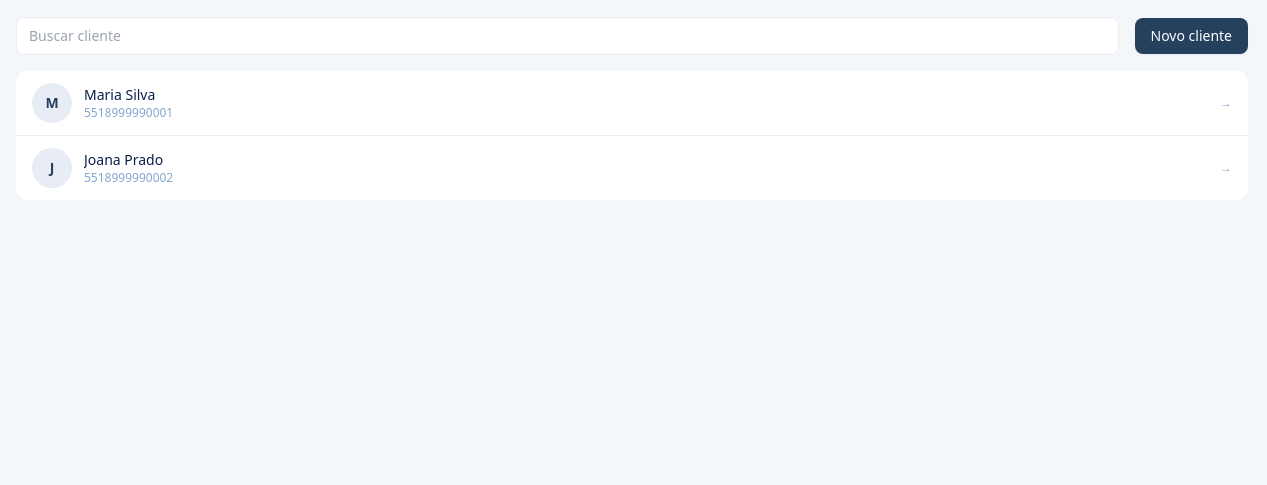
Test case: ClientesPage — criação › cria cliente com os 4 campos e mostra na lista
This screenshot has width=1267, height=485.
Click the button "Novo cliente".
click(1191, 36)  # box [1134,18,1248,54]
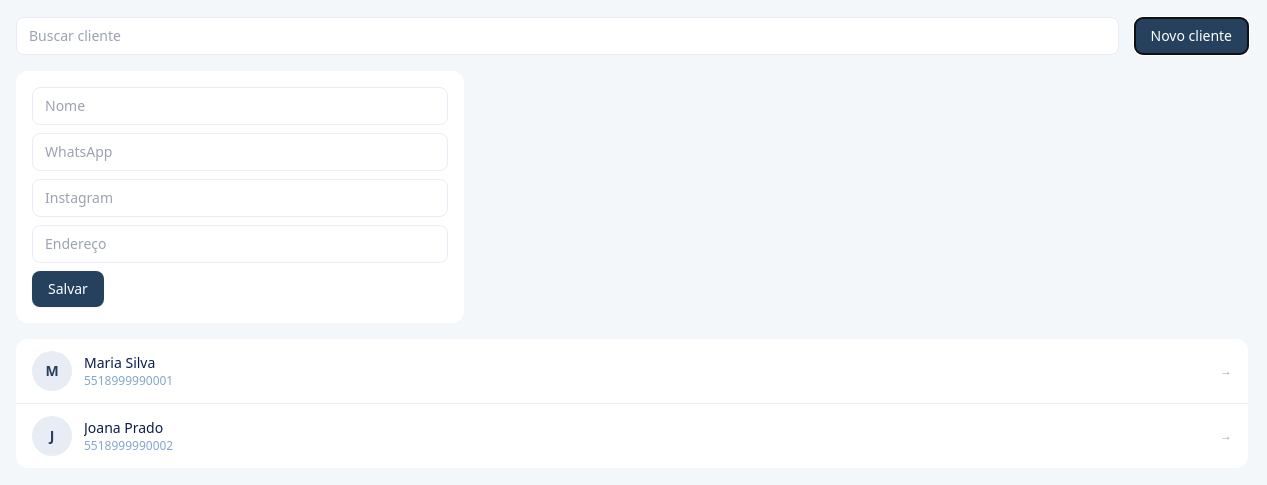
Type "Cintia Nascimento" into the field with placeholder "Nome".
click(240, 106); type("Cintia Nascimento")  # box [32,87,448,125]
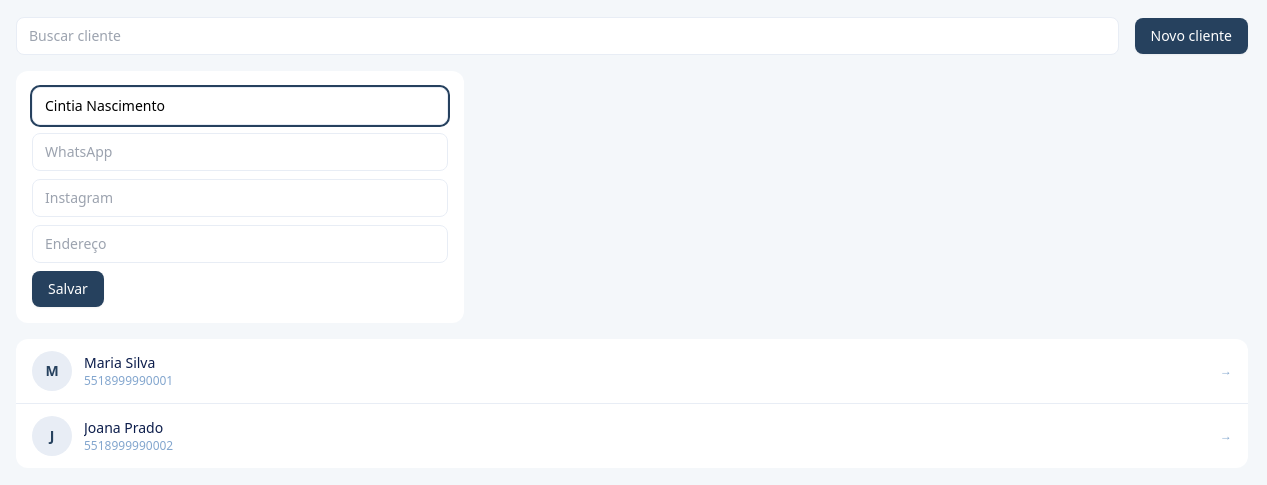
Type "5518988887777" into the field with placeholder "WhatsApp".
click(240, 152); type("5518988887777")  # box [32,133,448,171]
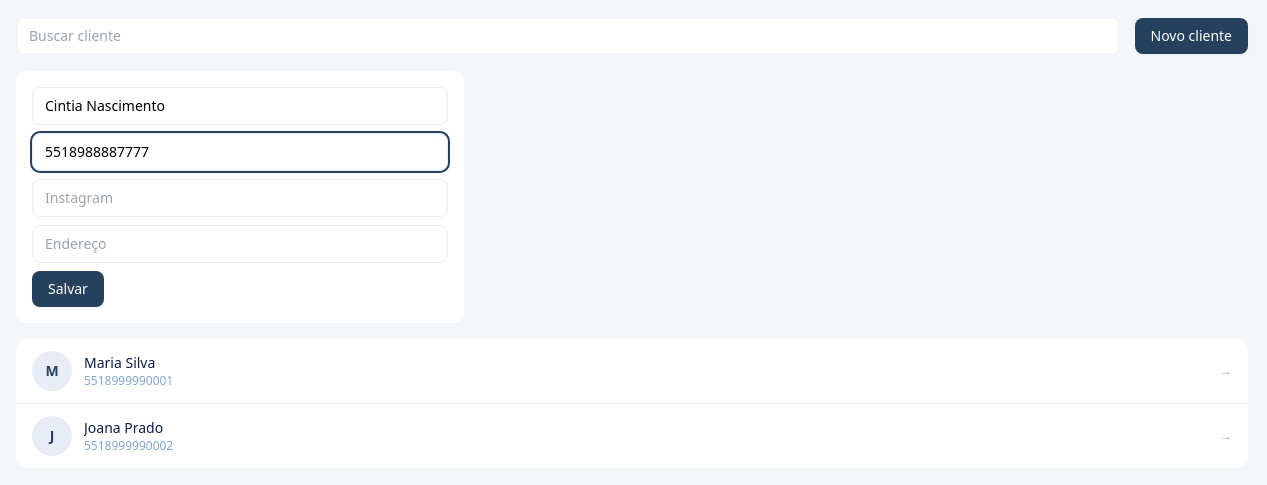
Type "@cintia" into the field with placeholder "Instagram".
click(240, 198); type("@cintia")  # box [32,179,448,217]
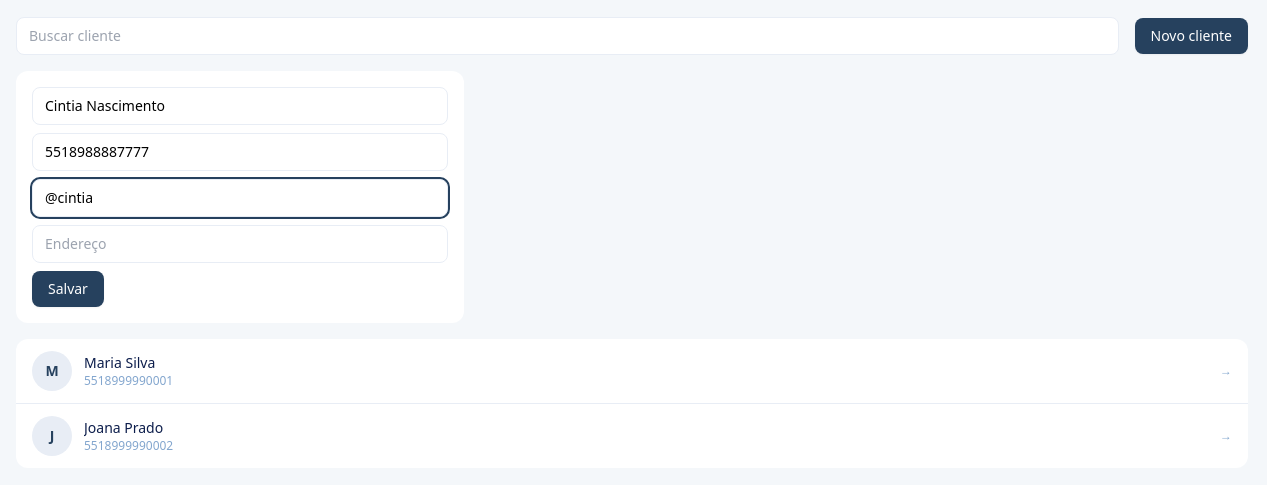
Type "Rua C, 9" into the field with placeholder "Endereço".
click(240, 244); type("Rua C, 9")  # box [32,225,448,263]
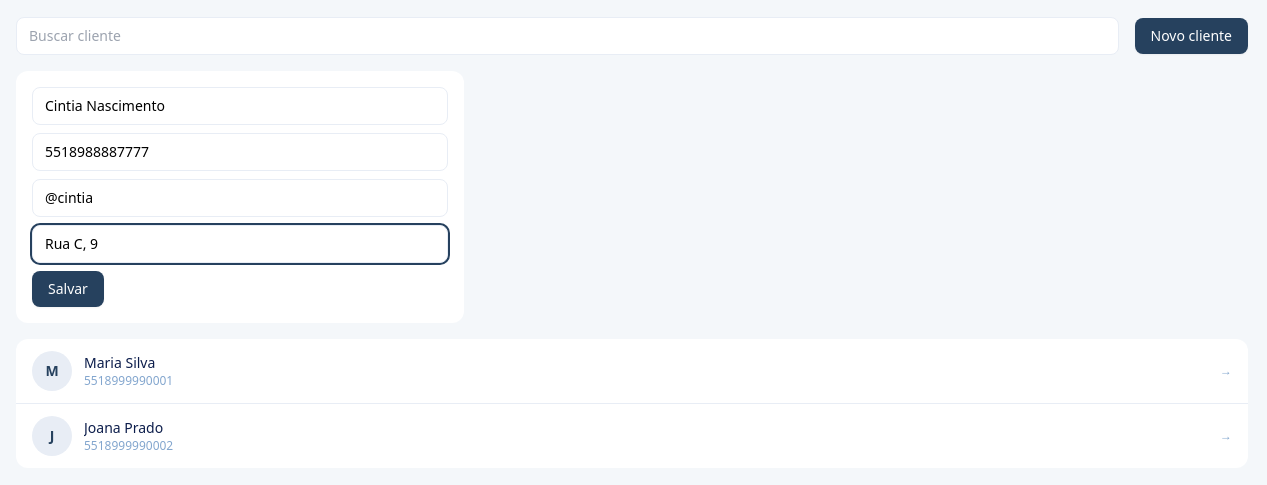
Click the button "Salvar".
click(68, 289)  # box [32,271,104,307]
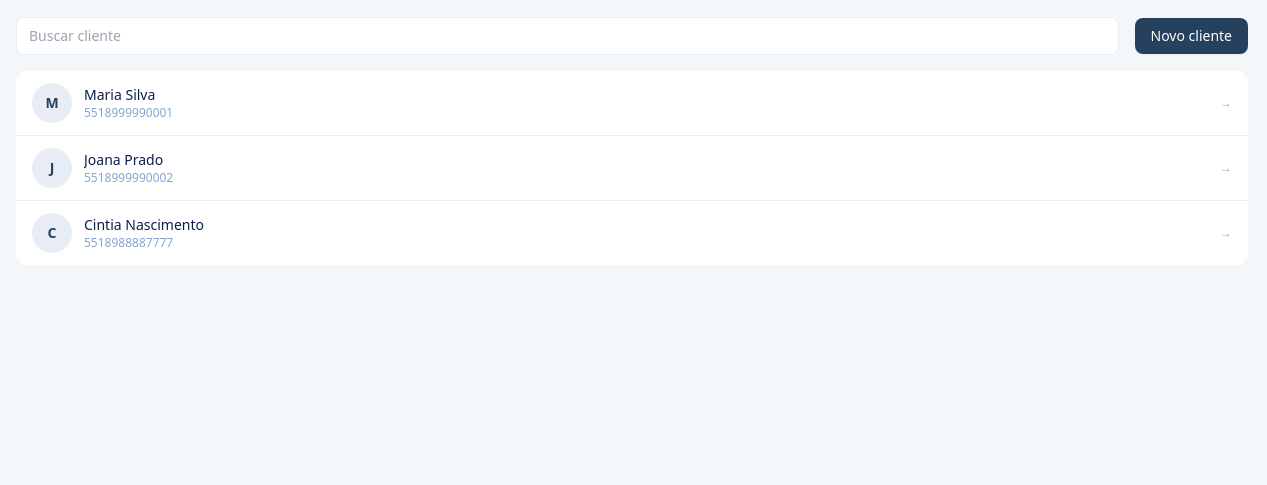
Check: the text "Cintia Nascimento" is shown, box [84,215,204,234]
